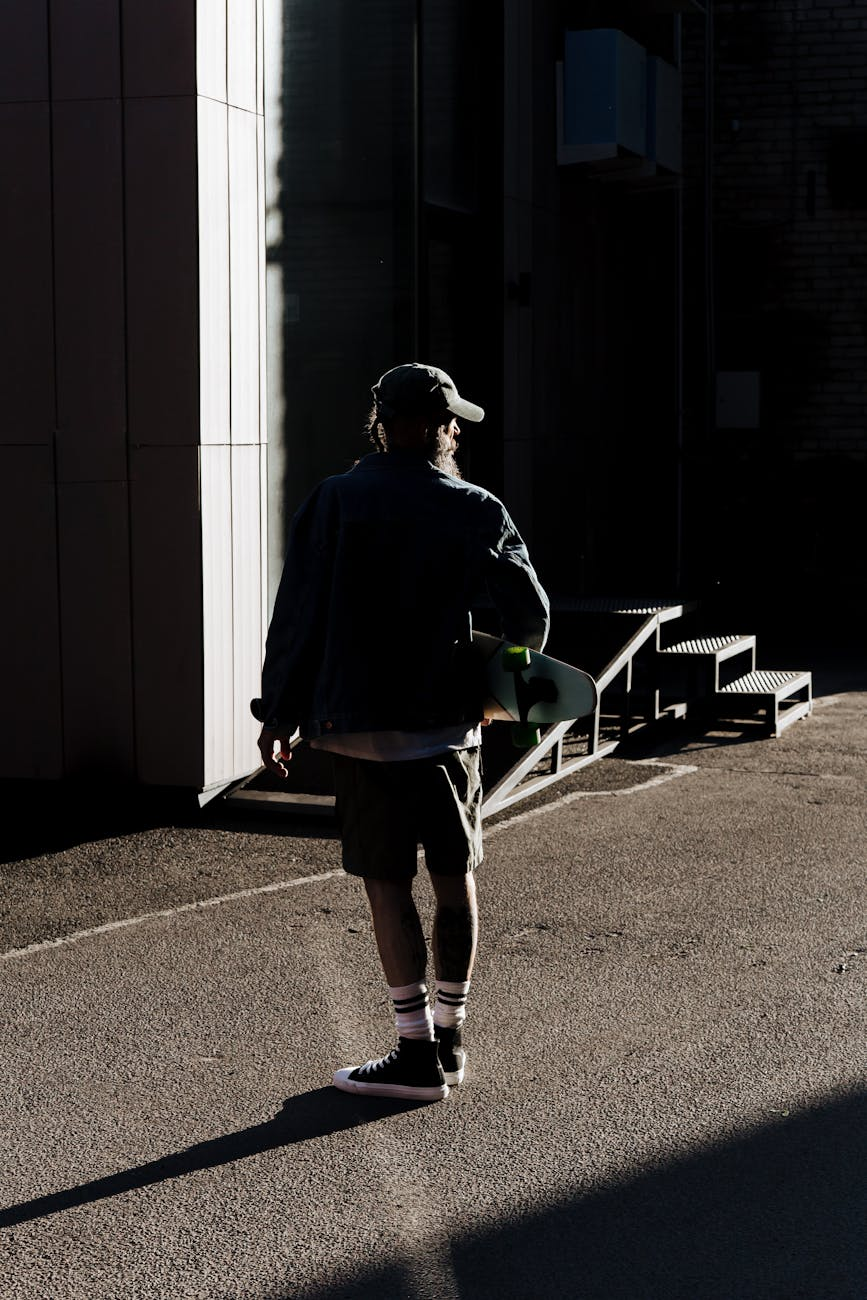shorts: (324, 738, 488, 884)
